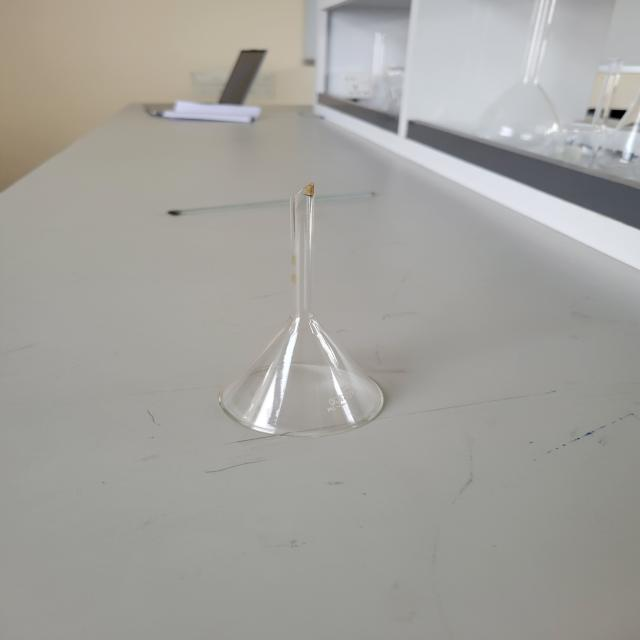Funnel: (186, 165, 450, 464)
